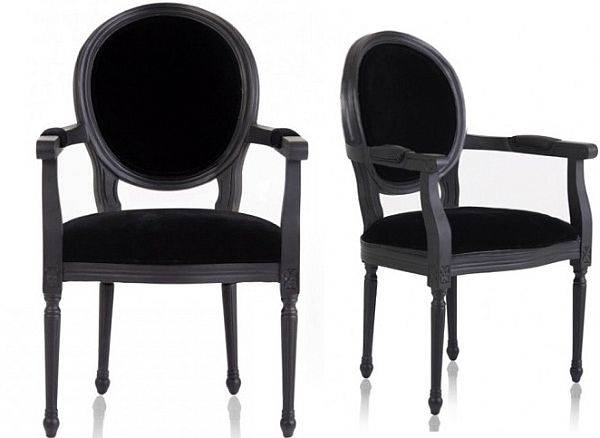chairs: (36, 2, 309, 433), (339, 26, 599, 416)
